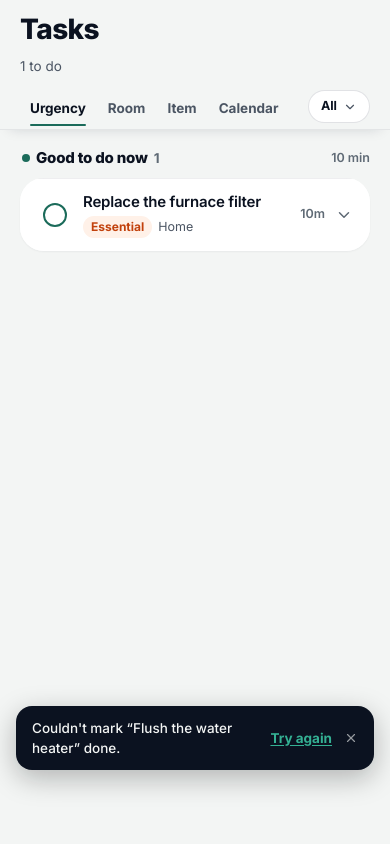
Test case: Tasks — a Done never crosses accounts, and a hopeless one is not retried forever › Try again on a task that no longer exists says so, instead of the line just vanishing
The width and height of the screenshot is (390, 844).
Expected: the text "Replace the furnace filter" is shown, [83, 192, 290, 212]
Step 1. Click the button "Try again" → x=301, y=738, box [270, 728, 332, 748]
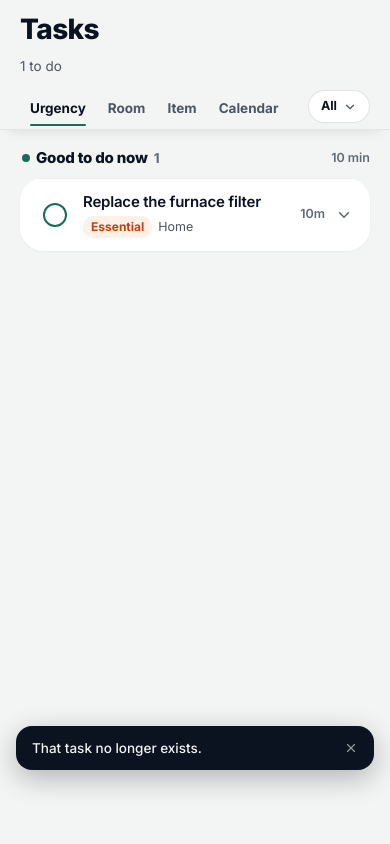
Expected: the text "That task no longer exists." is shown, [32, 740, 202, 756]
Expected: the text "Couldn't mark" is gone
